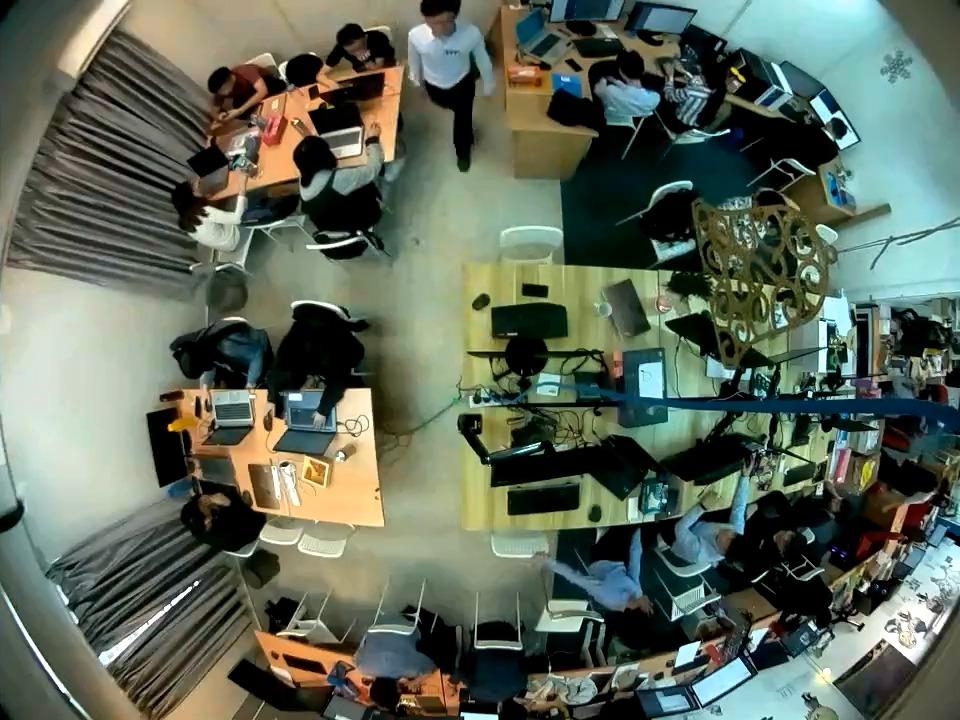name-tag: (442, 48, 461, 58)
